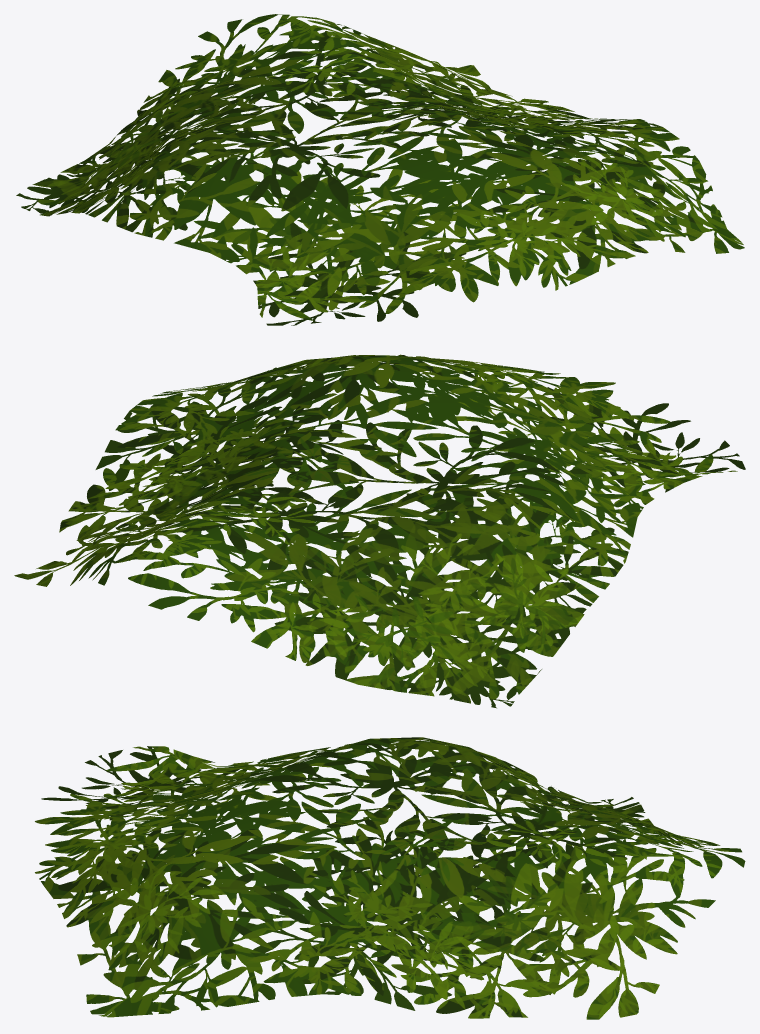
Rendered from SM_CanopyLeaves_001.fbx.
3 views of the same model, one above another, from view 1: azimuth 30°, elevation 25°; view 2: azimuth 150°, elevation 25°; view 3: azimuth 270°, elevation 25° (orthographic). The views are drawn at different scales.
Parts seen in each view (by area): view 1: canopy_plane1; view 2: canopy_plane1; view 3: canopy_plane1.
Part boxes in pixels (left/top/right/bottom): canopy_plane1: left=16, top=14, right=744, bottom=325; canopy_plane1: left=14, top=354, right=745, bottom=708; canopy_plane1: left=35, top=737, right=745, bottom=1019.
Bounding box in the file's own units: 7339159 × 1488603 × 8683354.
